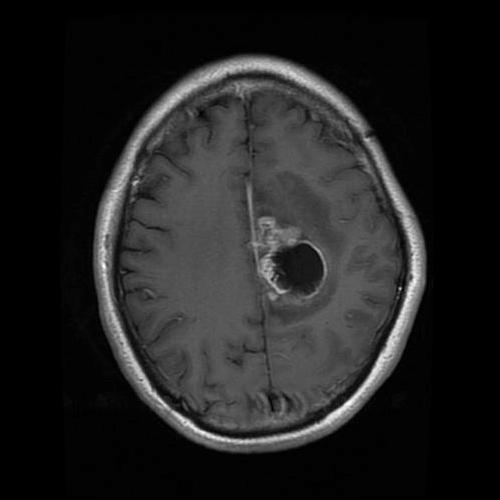Tumour-Glioma: (246, 208, 330, 302)
